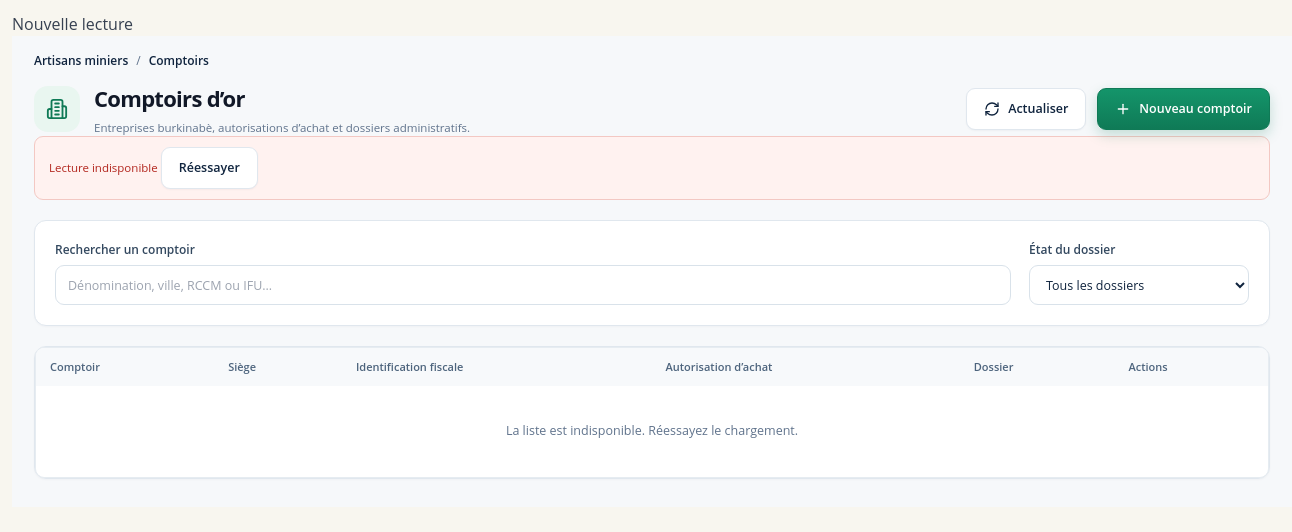
Scenario: Lecture du registre des comptoirs › affiche le vide vérifié après une reprise réussie
The width and height of the screenshot is (1292, 532).
Click the button "Réessayer": (209, 168) [161,147,258,189]
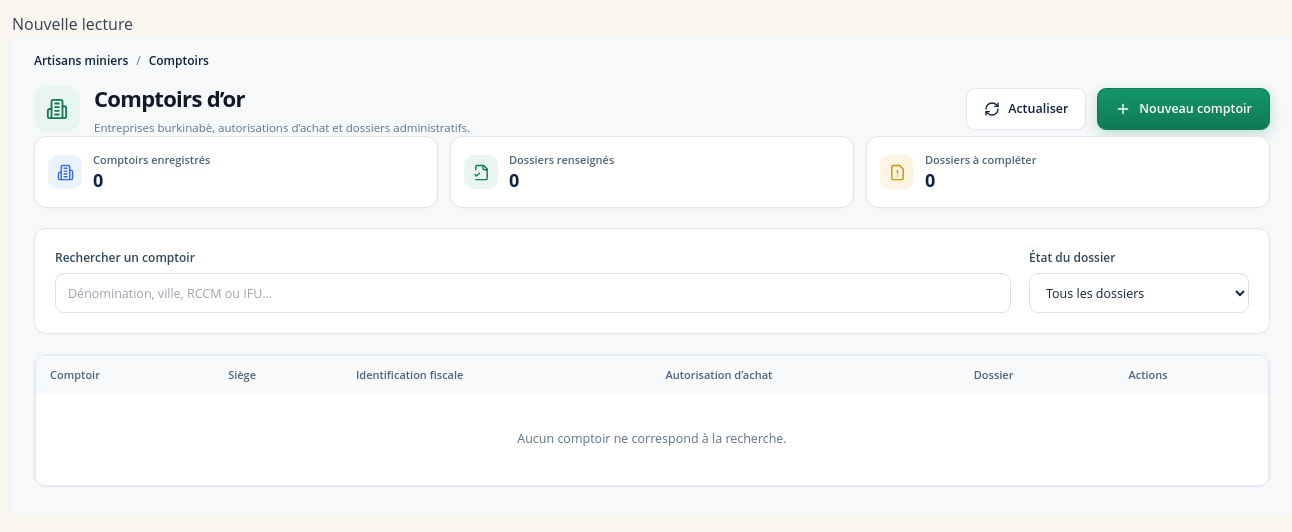
expect the text "Aucun comptoir ne correspond à la recherche." is shown: met, box [517,430,787,447]
expect the element named "Synthèse des comptoirs" is shown: met, box [34,136,1270,208]
expect the message "Lecture indisponible Réessayer" is gone: met
